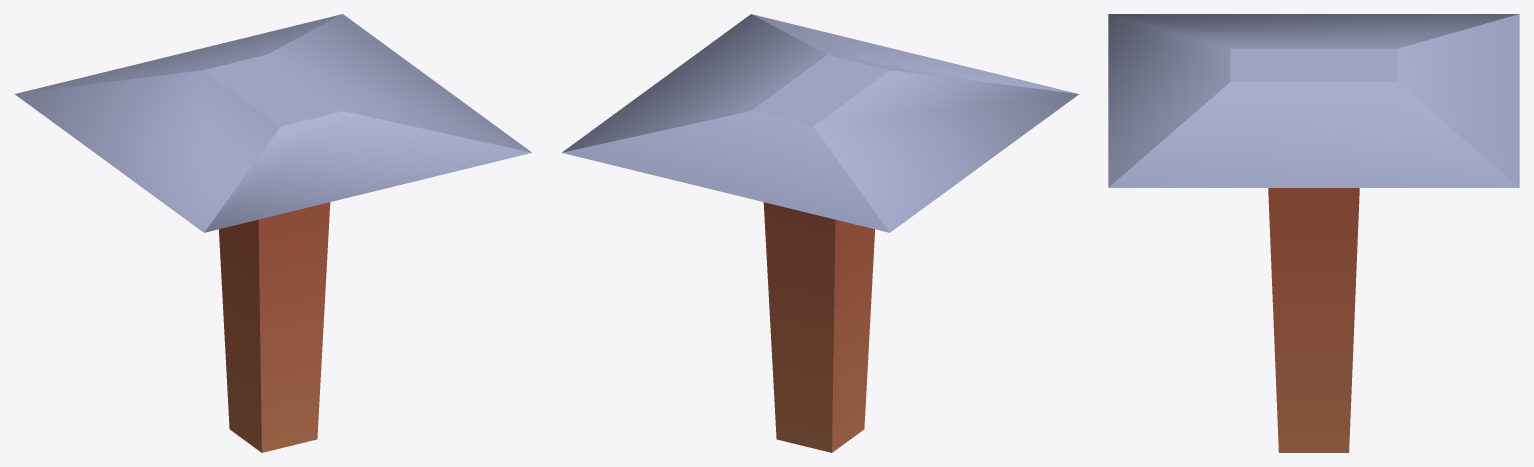
File: oracle_staff.glb
3 renders of one model, left to right at view 1: azimuth 30°, elevation 25°; view 2: azimuth 150°, elevation 25°; view 3: azimuth 270°, elevation 25°, orthographic. The views are drawn at different scales.
Parts seen in each view (by area): view 1: weapon-spear; view 2: weapon-spear; view 3: weapon-spear.
Boxes of the visible parts, left/top/right/bottom form: weapon-spear: left=15, top=14, right=531, bottom=452; weapon-spear: left=562, top=14, right=1078, bottom=452; weapon-spear: left=1108, top=14, right=1519, bottom=452.
Size of the model in its own units: 1 by 1 by 1.
Materials: 1 (1 with a texture image).
